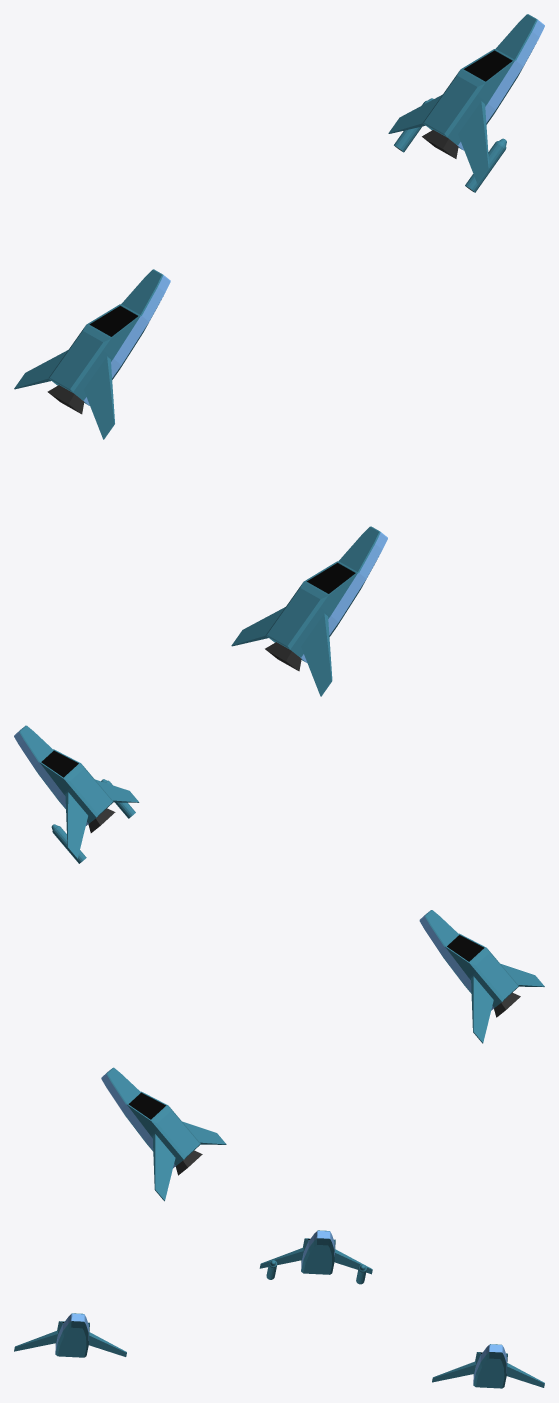
Rendered from SpaceShips3.0.fbx.
3 renders of one model, top to bottom at view 1: azimuth 30°, elevation 25°; view 2: azimuth 150°, elevation 25°; view 3: azimuth 270°, elevation 25°, orthographic. The views are drawn at different scales.
Parts seen in each view (by area): view 1: Cube.001, Cube.002, Cube; view 2: Cube.001, Cube, Cube.002; view 3: Cube.001, Cube.002, Cube.
Part boxes in pixels (x1=…): Cube.001: x1=14, y1=269, x2=170, y2=439; Cube.002: x1=231, y1=526, x2=387, y2=696; Cube: x1=388, y1=14, x2=544, y2=184; Cube.001: x1=101, y1=1067, x2=226, y2=1201; Cube: x1=14, y1=725, x2=139, y2=858; Cube.002: x1=419, y1=910, x2=544, y2=1043; Cube.001: x1=432, y1=1344, x2=544, y2=1388; Cube.002: x1=14, y1=1313, x2=126, y2=1357; Cube: x1=259, y1=1230, x2=372, y2=1274.
Size of the model in its own units: 4598 by 3940 by 6976.
